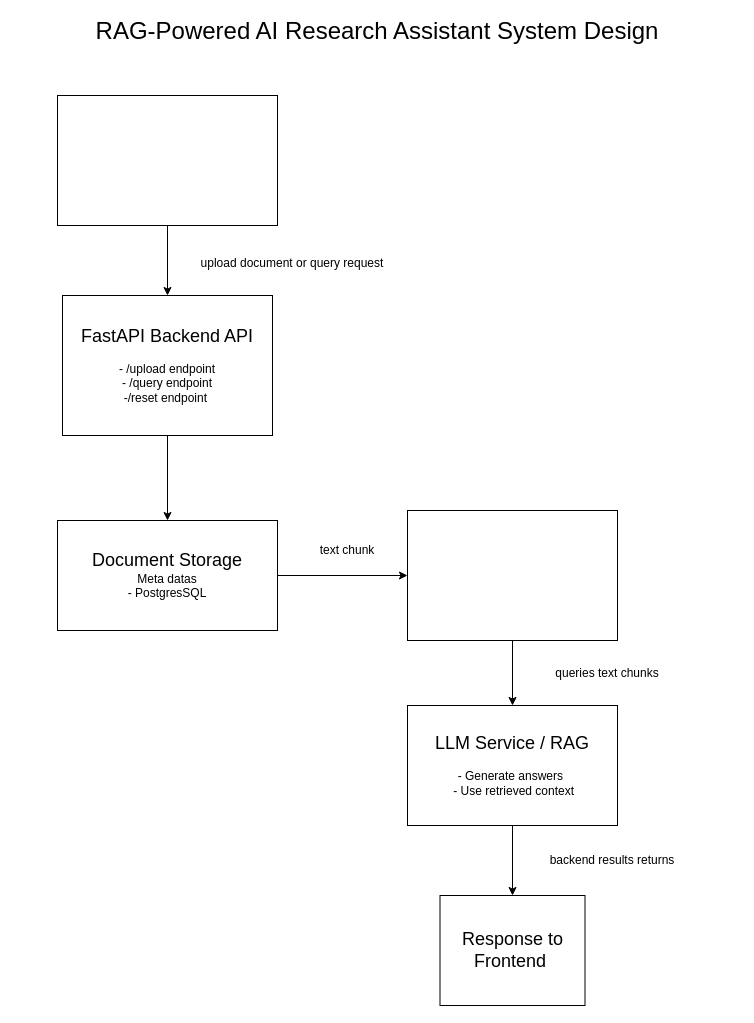
Some shapes in this 754 by 1023 pixel diagram are drawn without their labels. Here are the shapes that lost their labels. From the top down, the box of each, then its label:
(56, 94, 278, 226): Frontend React UI - Upload documents - Ask questions
(406, 510, 618, 640): Vector DB (Chroma ) - Embeddings storage - Text Chunks
